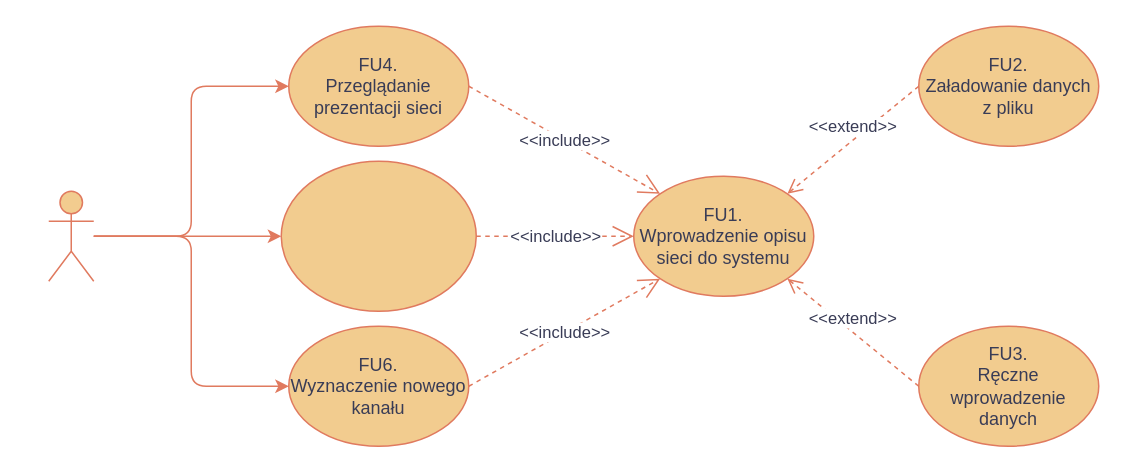
Image size: 1125x473. Some labels were removed from this diagram. The shapes that lost their labels are listed below. From the top down, each one's box as (x1, y1, x2, y2) in pixels, then its label:
(47, 190, 94, 281): Użytkownik
(280, 160, 476, 311): FU5. Wygenerowanie zestawienia zajętości pasma przez kanały
